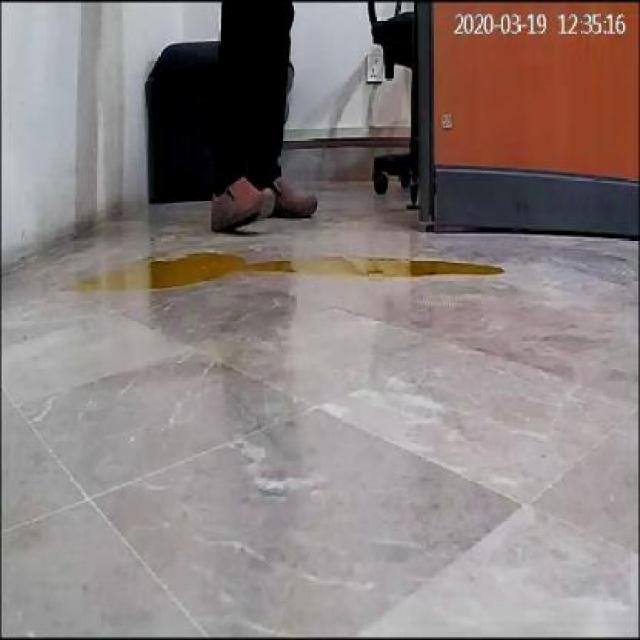spill: (82, 251, 504, 294)
